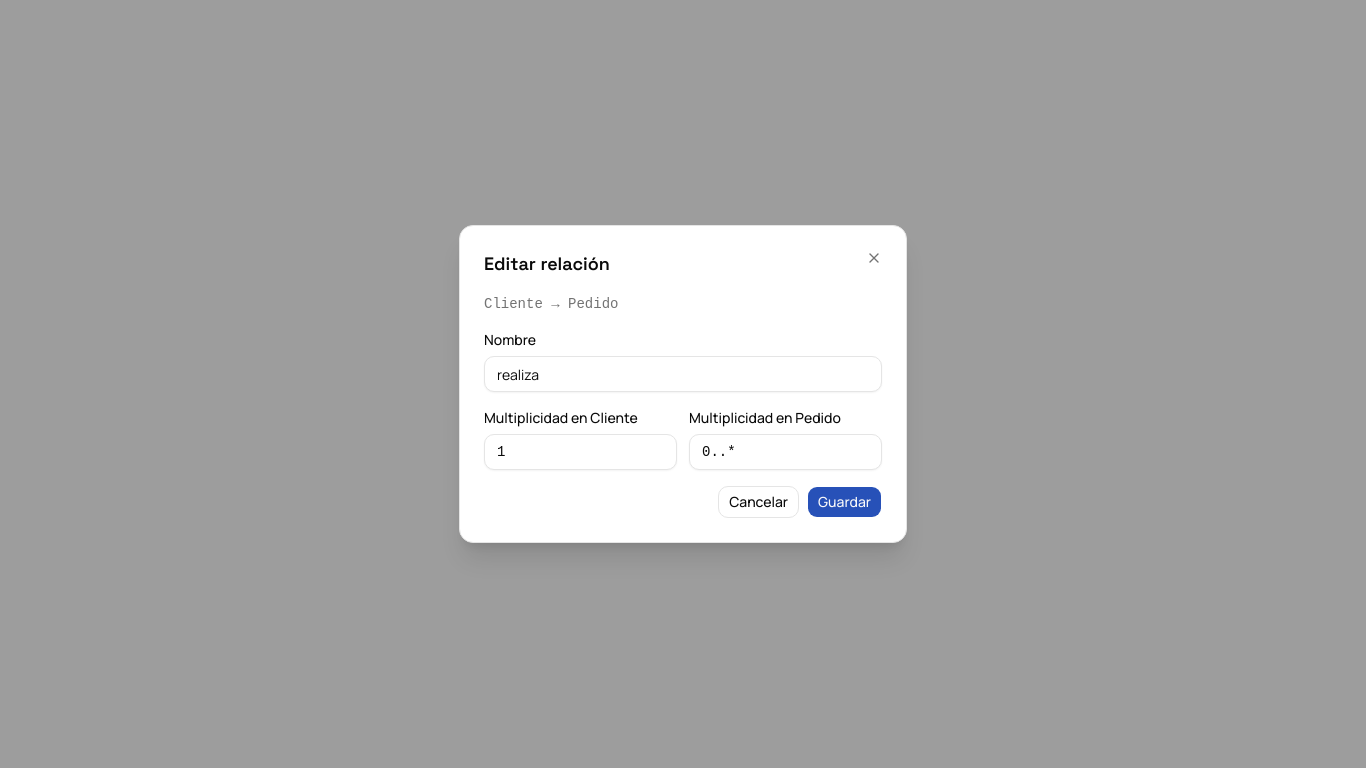
EditRelationshipDialog › rejects the multiplicity  without sending anything
Clear the field labelled "Multiplicidad en Cliente" at (580, 452), box [484, 434, 677, 470]
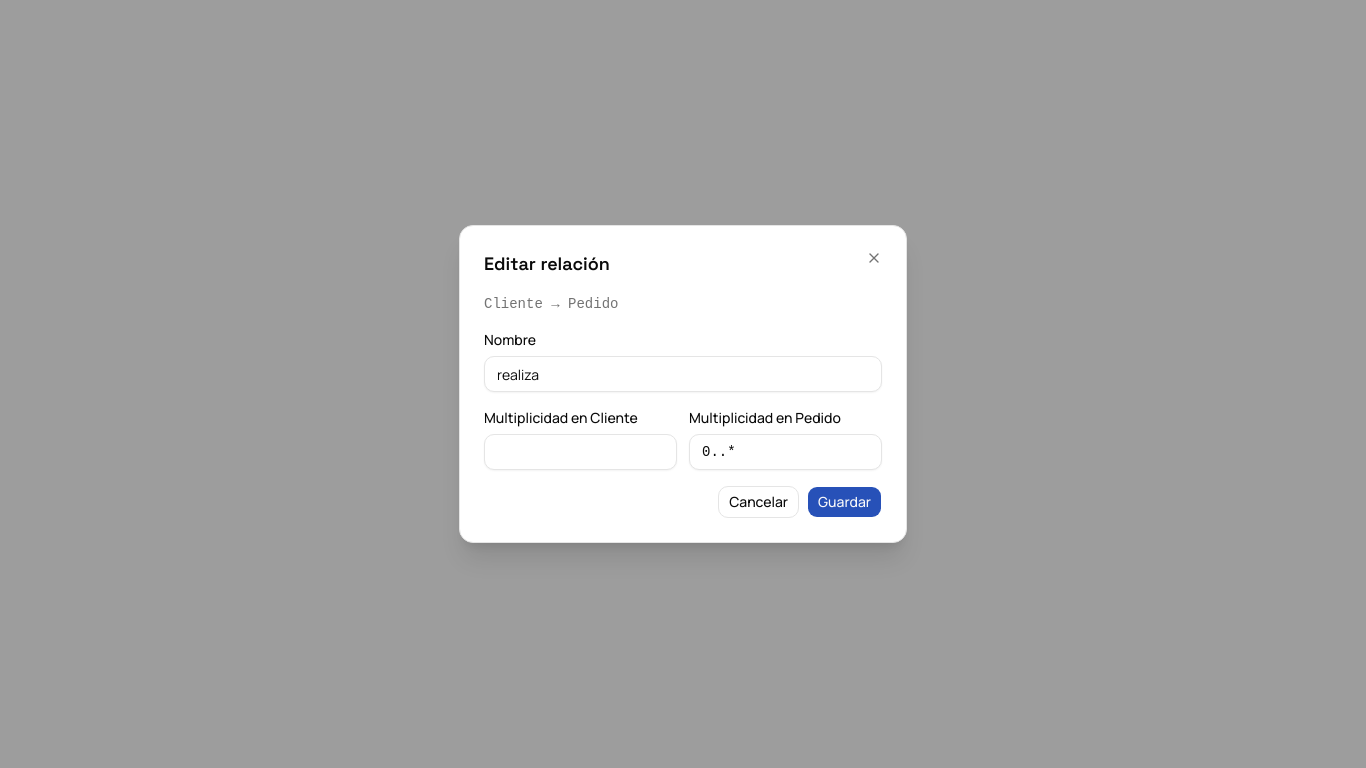
Click the button "Guardar" at (845, 502), box [807, 486, 882, 518]
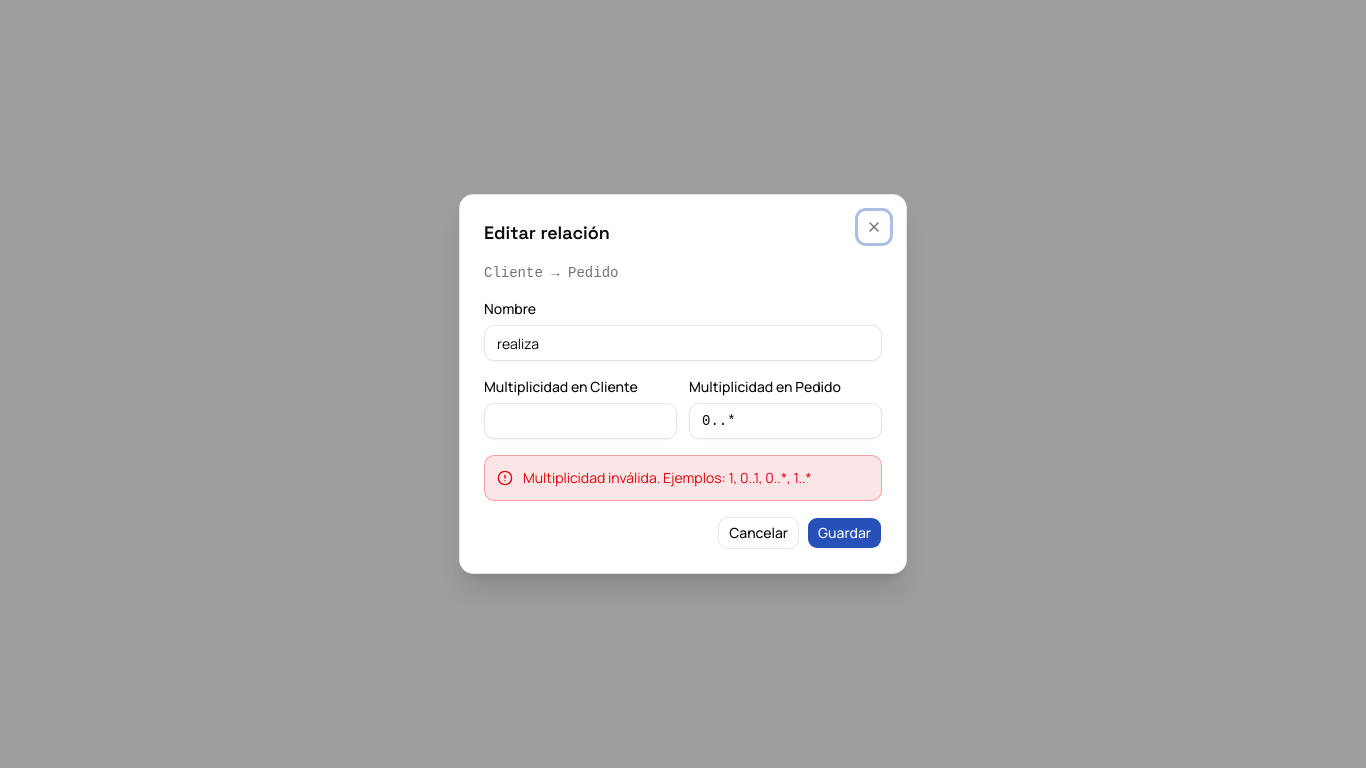
Check: the text "Multiplicidad inválida. Ejemplos: 1, 0..1, 0..*, 1..*" is shown, box [523, 468, 812, 488]
